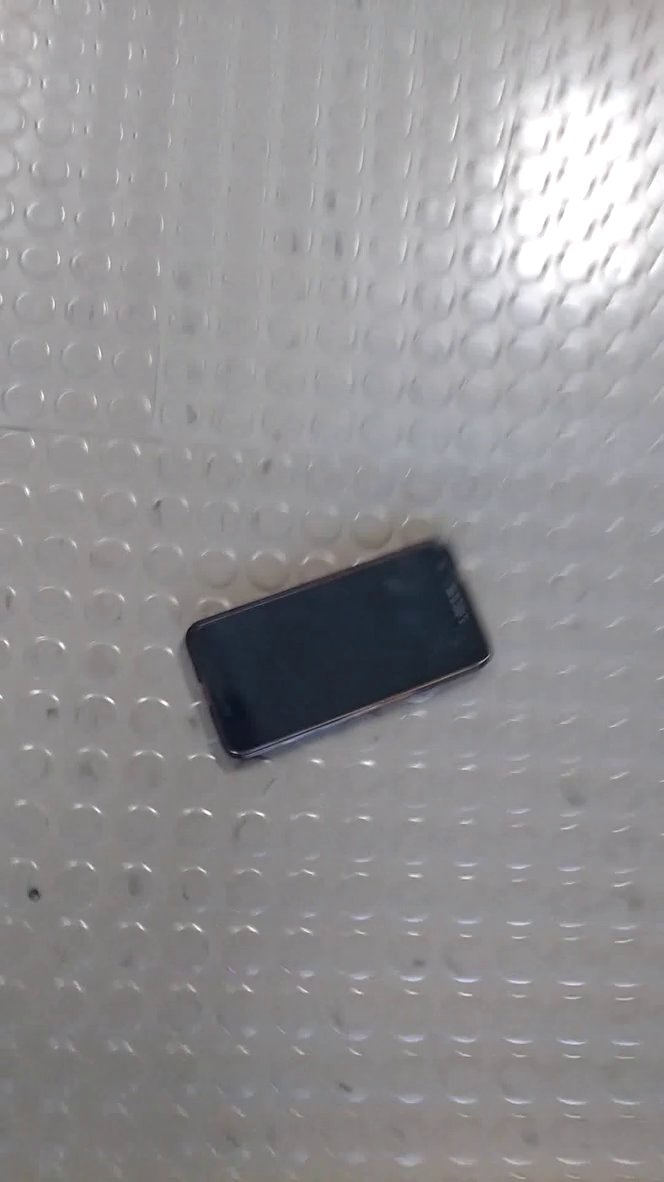phone: (176, 513, 497, 776)
